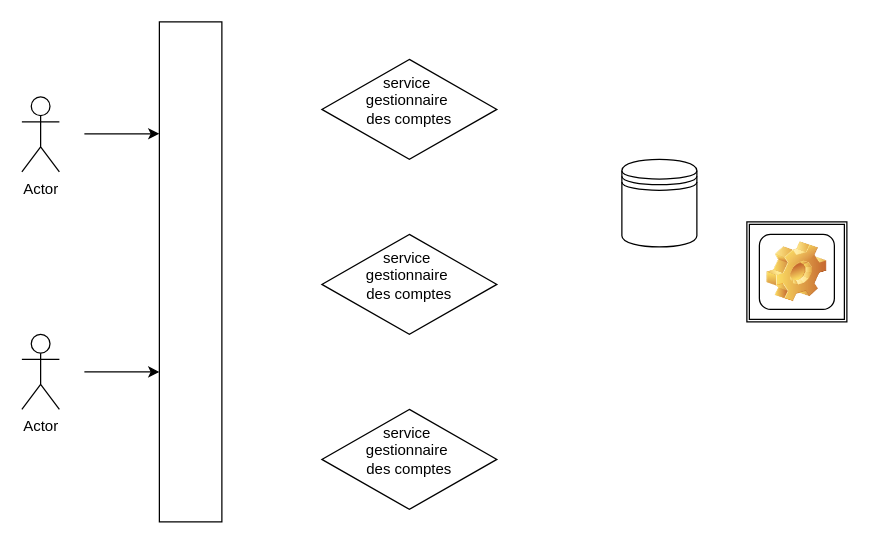
Some shapes in this 869 by 544 pixel diagram are drawn without their labels. The box of each missing label's shape, as (x1, y1, x2, y2) in pixels:
BD: (621, 158, 697, 247)
ETL: (758, 233, 834, 309)
IHM: (158, 21, 222, 522)
